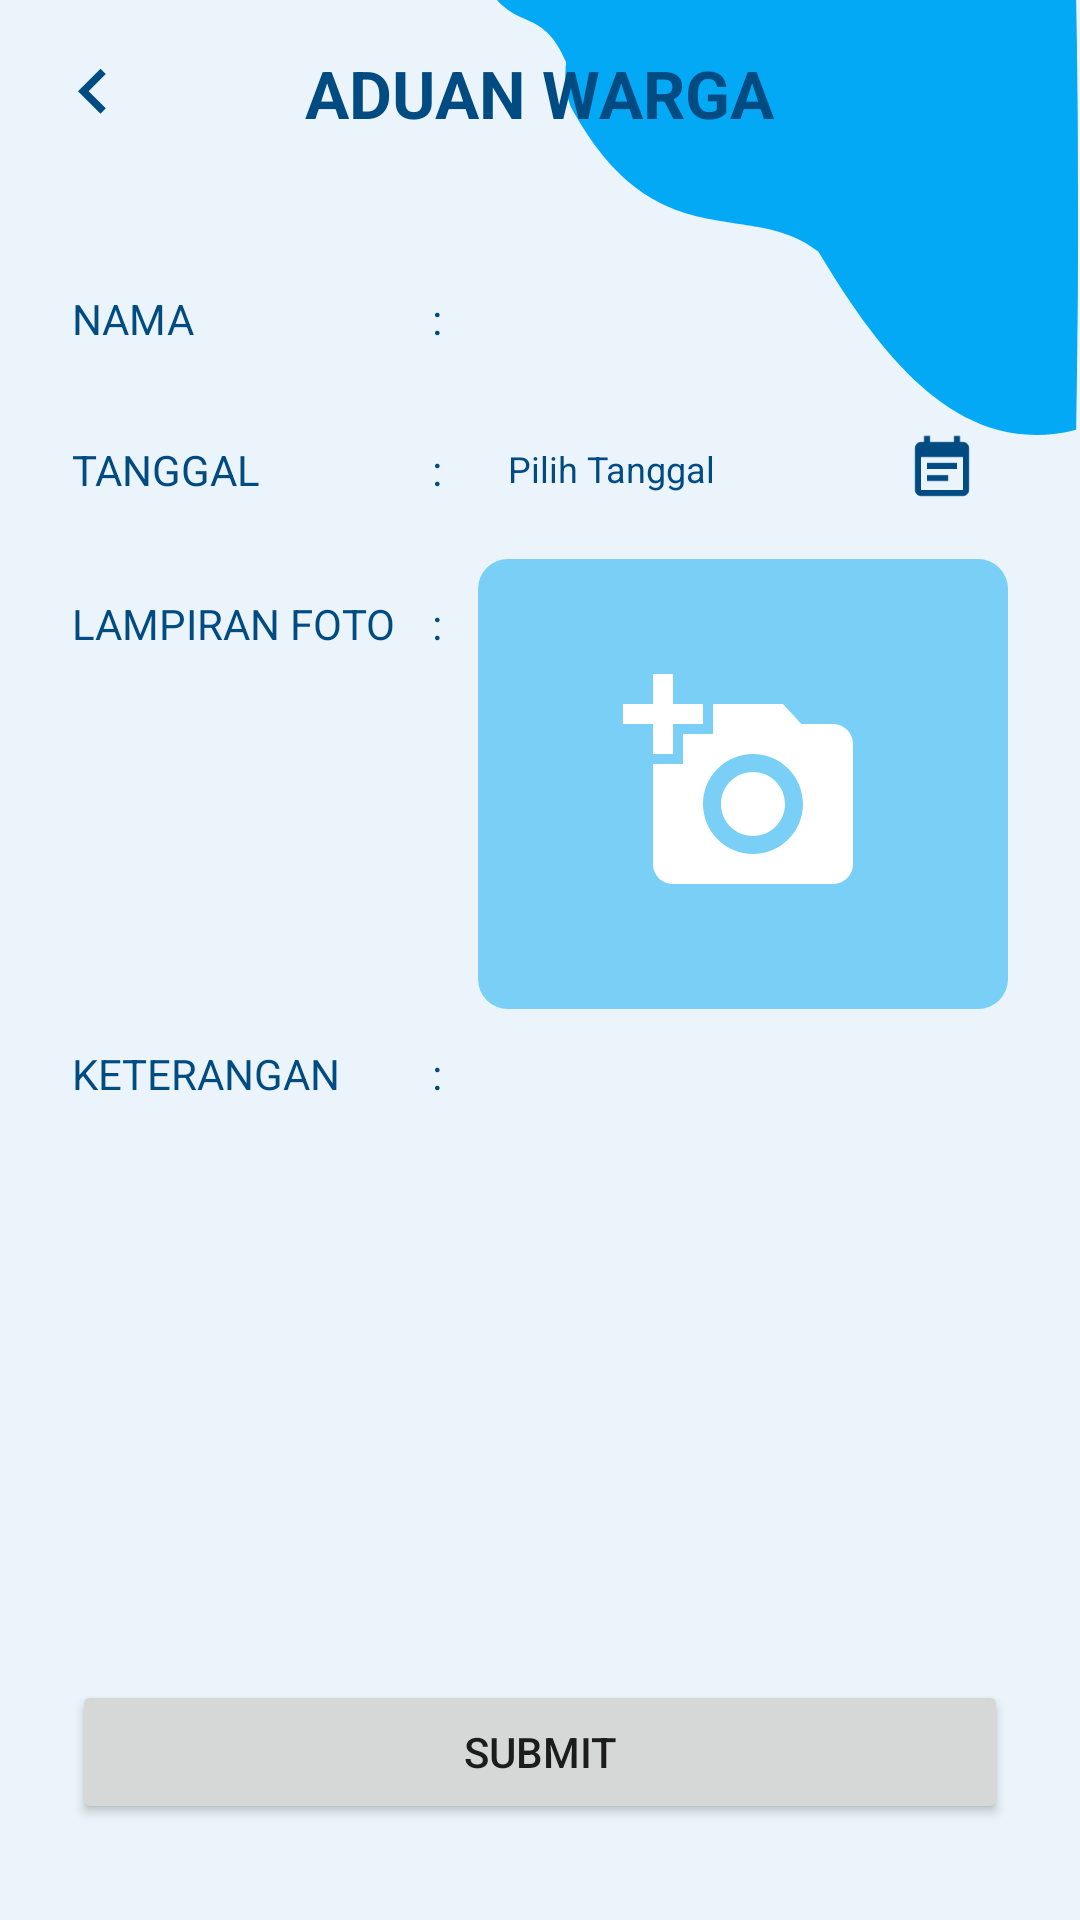

Screen size 1080px x 1920px. Icon name, then its center in pixels as (x=x, y=y):
add photo: (x=738, y=779)
keyboard arrow left: (x=92, y=91)
